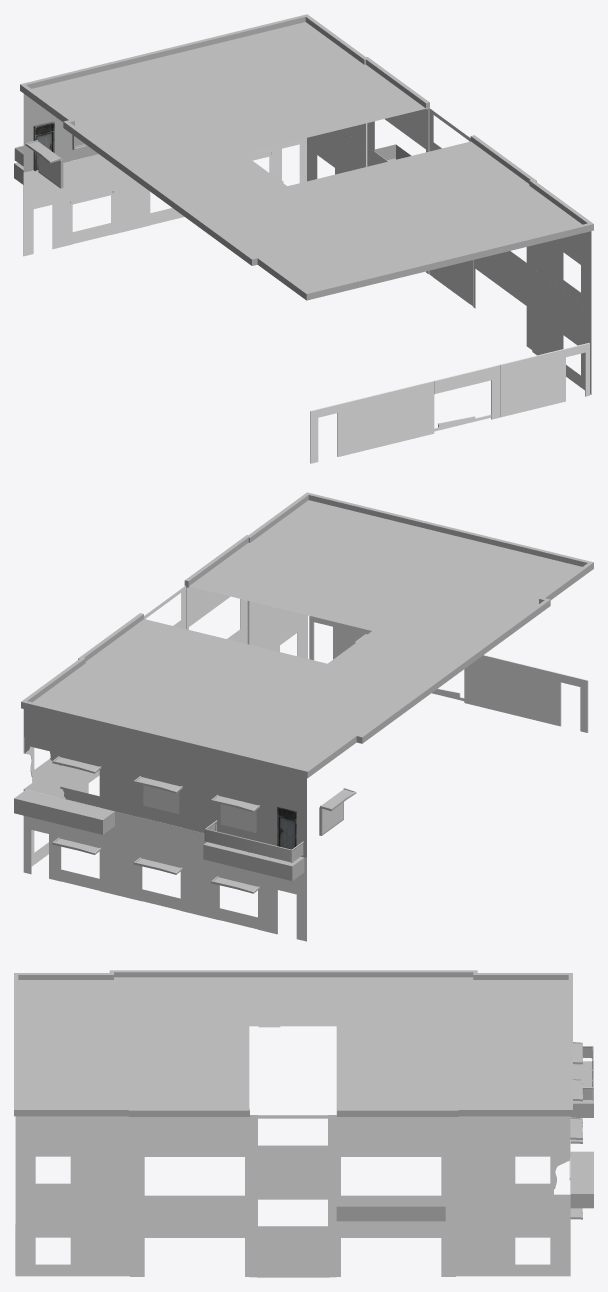
File: Apartment 1_Cine 02.fbx
The picture shows the model from 3 angles, top to bottom: view 1: azimuth 30°, elevation 25°; view 2: azimuth 150°, elevation 25°; view 3: azimuth 270°, elevation 25°; orthographic projection. The views are drawn at different scales.
Parts seen in each view (by area): view 1: Roof, RoofSkirtings, Cube (63), Cube (1) (×2), Cube (61), Cube (12) (×2), Cube (4), RoomExtWall_Broken01, Cube (19), Cube (3), Cube (×2), Cube (69) (+7 smaller); view 2: Roof, RoomExtWall_Broken01, RoofSkirtings, R_Balcony (×2), Cube (63), Cube (5), Cube (4), Cube (11), TripleWindowGrill (×2), R_BalconyGrill, Cube (10) (×2), Cube (69) (+7 smaller); view 3: Roof, RoofSkirtings, Cube (1) (×2), Cube (10) (×2), Cube (19) (×2), Cube (12) (×2), Cube (20) (×2), Cube (×2), Cube (14) (×2), Cube (13) (×2), Cube (11) (×2), Cube (2) (×2) (+7 smaller).
Part boxes in pixels (bbox=[...]): Roof: bbox=[32, 22, 581, 291]; RoofSkirtings: bbox=[20, 14, 593, 300]; Cube (63): bbox=[337, 387, 409, 456]; Cube (1) (×2): bbox=[532, 238, 563, 355]; Cube (61): bbox=[500, 348, 565, 417]; Cube (12) (×2): bbox=[70, 154, 469, 303]; Cube (4): bbox=[111, 163, 150, 234]; RoomExtWall_Broken01: bbox=[23, 94, 98, 172]; Cube (19): bbox=[474, 251, 527, 306]; Cube (3): bbox=[52, 161, 72, 248]; Cube (×2): bbox=[581, 231, 591, 394]; Cube (69): bbox=[409, 380, 434, 439]; Roof: bbox=[32, 500, 581, 768]; RoomExtWall_Broken01: bbox=[24, 709, 306, 857]; RoofSkirtings: bbox=[21, 492, 593, 778]; R_Balcony (×2): bbox=[14, 789, 304, 880]; Cube (63): bbox=[489, 656, 561, 726]; Cube (5): bbox=[99, 811, 142, 901]; Cube (4): bbox=[180, 827, 219, 920]; Cube (11): bbox=[140, 817, 181, 867]; TripleWindowGrill (×2): bbox=[143, 785, 256, 832]; R_BalconyGrill: bbox=[204, 820, 303, 862]; Cube (10) (×2): bbox=[52, 764, 100, 847]; Cube (69): bbox=[464, 655, 489, 708]; Roof: bbox=[18, 977, 568, 1114]; RoofSkirtings: bbox=[14, 970, 572, 1116]; Cube (1) (×2): bbox=[70, 1116, 129, 1276]; Cube (10) (×2): bbox=[456, 1116, 515, 1276]; Cube (19) (×2): bbox=[144, 1117, 244, 1237]; Cube (12) (×2): bbox=[257, 1145, 329, 1277]; Cube (20) (×2): bbox=[341, 1117, 441, 1237]; Cube (×2): bbox=[15, 1116, 35, 1276]; Cube (14) (×2): bbox=[512, 1116, 553, 1237]; Cube (13) (×2): bbox=[33, 1116, 73, 1237]; Cube (11) (×2): bbox=[550, 1116, 570, 1276]; Cube (2) (×2): bbox=[130, 1117, 144, 1276].
Size of the model in its own units: 20.64 by 10.58 by 33.24.
